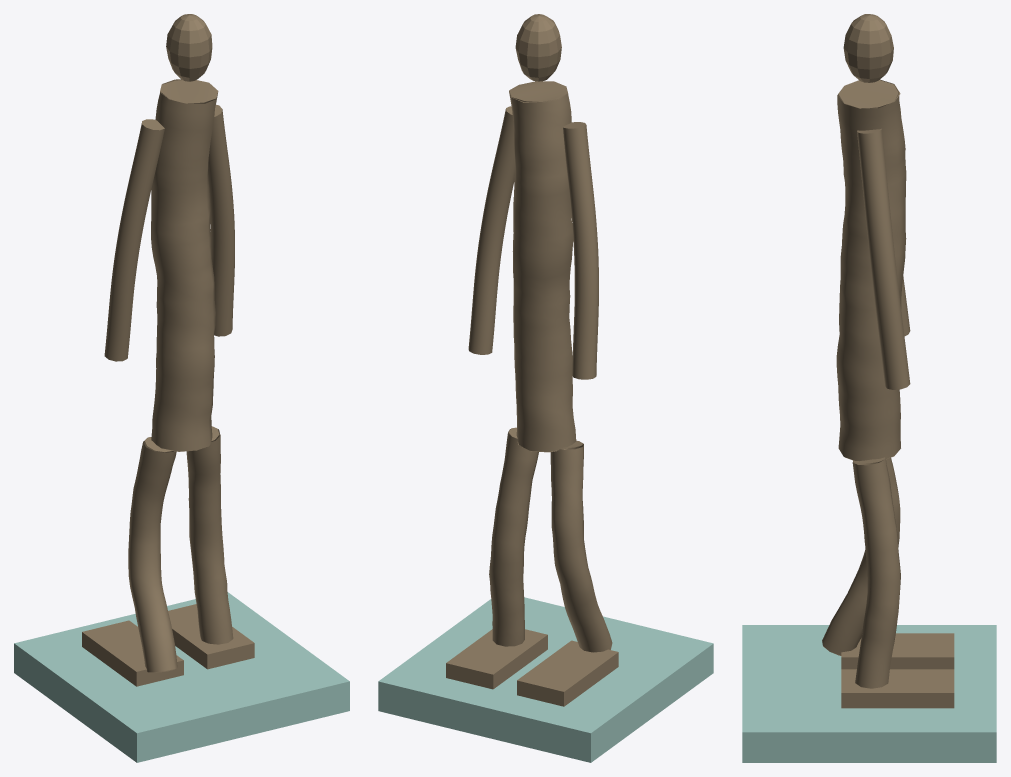
The model's file is bronze_figure.glb.
3 views of the same model, side by side, from view 1: azimuth 30°, elevation 25°; view 2: azimuth 150°, elevation 25°; view 3: azimuth 270°, elevation 25° (orthographic). The views are drawn at different scales.
Parts seen in each view (by area): view 1: bronze_figure; view 2: bronze_figure; view 3: bronze_figure.
Part boxes in pixels (x1,y1,x2,y2): bronze_figure: (14,14,349,762); bronze_figure: (378,14,713,762); bronze_figure: (742,14,996,762).
Bounding box in the file's own units: 0.9 × 2.73 × 0.9.
